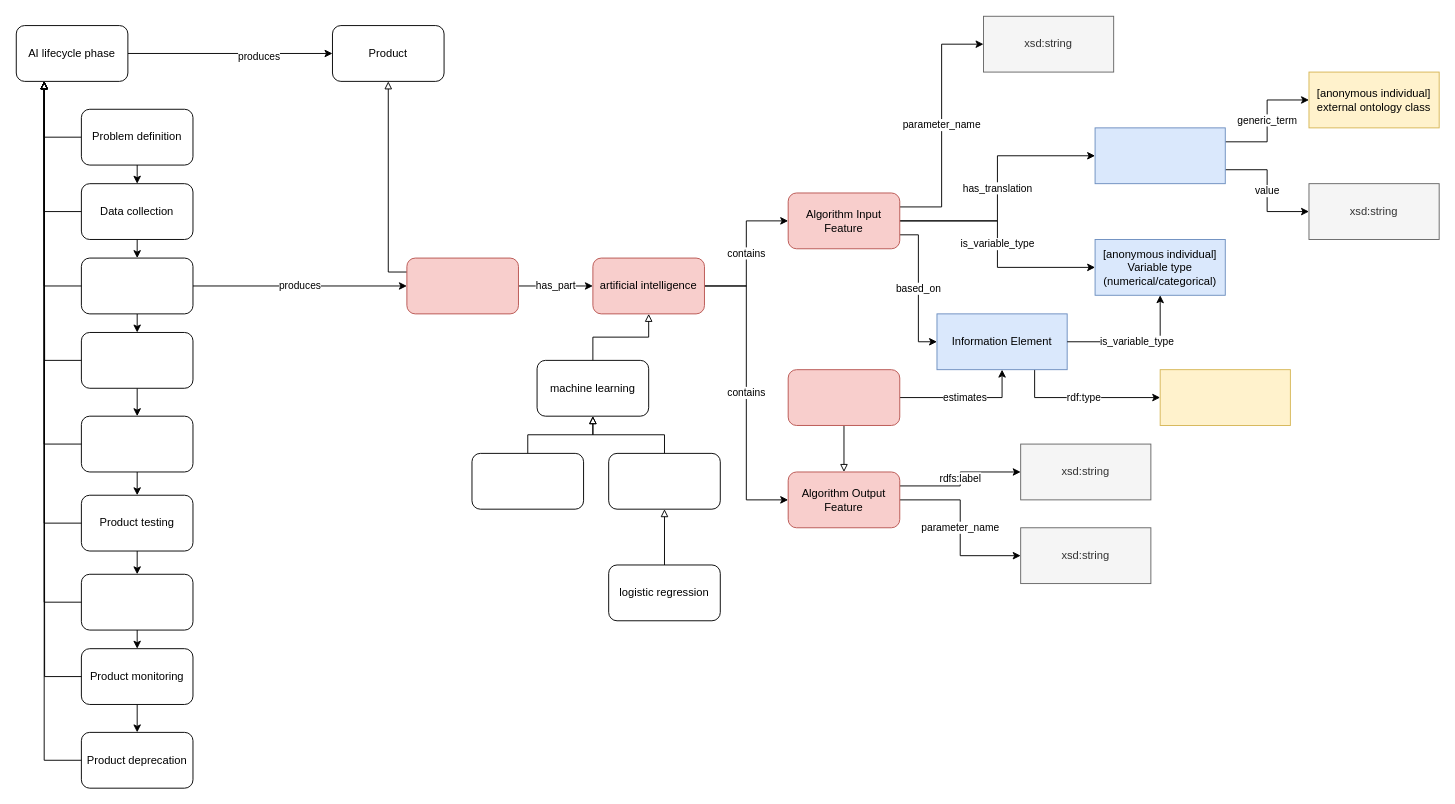
Image size: 1455x804. Some labels were removed from this diagram. Each missing label, with the centre of its shape:
"[anonymous individual] Value Translation" belongs at [1159,155].
"AI model" belongs at [462,285].
"external ontology class" belongs at [1224,397].
"Model development" belongs at [136,285].
"Model testing" belongs at [136,360].
"Probability" belongs at [843,397].
"Product development" belongs at [136,443].
"Product implementation" belongs at [136,601].
"supervised" belongs at [664,480].
"unsupervised" belongs at [527,480].
